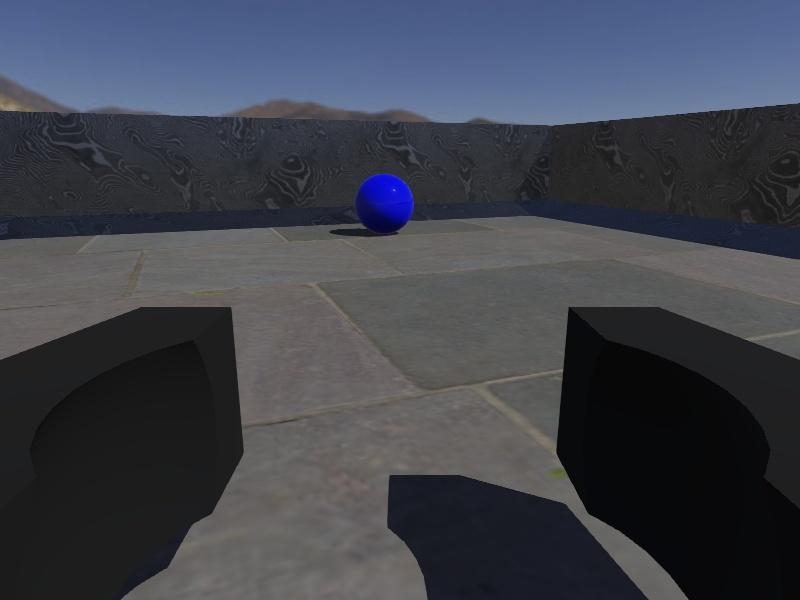blue ball: (354, 172, 415, 235)
